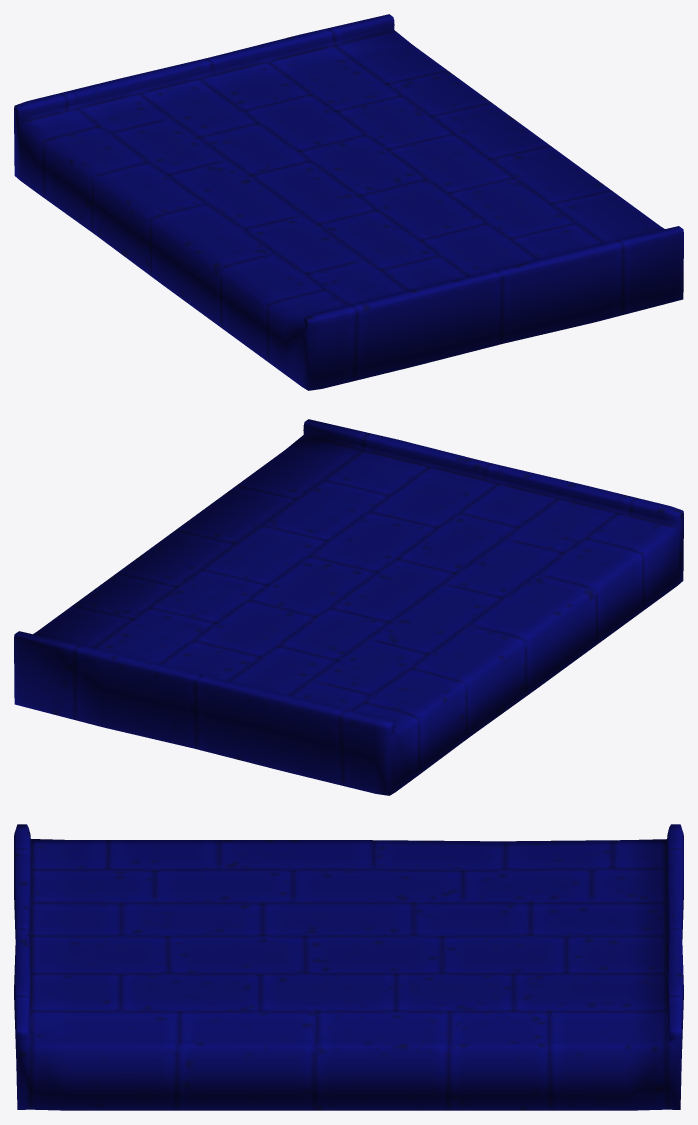
The model's file is Plataform.fbx.
3 renders of one model, top to bottom at view 1: azimuth 30°, elevation 25°; view 2: azimuth 150°, elevation 25°; view 3: azimuth 270°, elevation 25°, orthographic. The views are drawn at different scales.
Visible parts, largest first — view 1: Plataform_LowPoly; view 2: Plataform_LowPoly; view 3: Plataform_LowPoly.
Part boxes in pixels (left/top/right/bottom): Plataform_LowPoly: left=14, top=14, right=683, bottom=390; Plataform_LowPoly: left=14, top=419, right=683, bottom=795; Plataform_LowPoly: left=14, top=824, right=683, bottom=1110.
Size of the model in its own units: 146 by 27.35 by 200.
